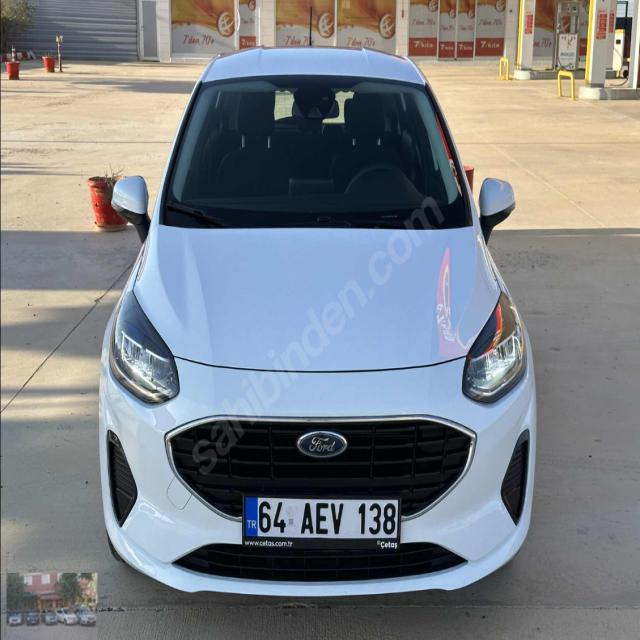ford: (295, 428, 349, 461)
